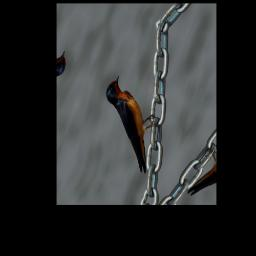Swallow: (85, 72, 175, 176)
